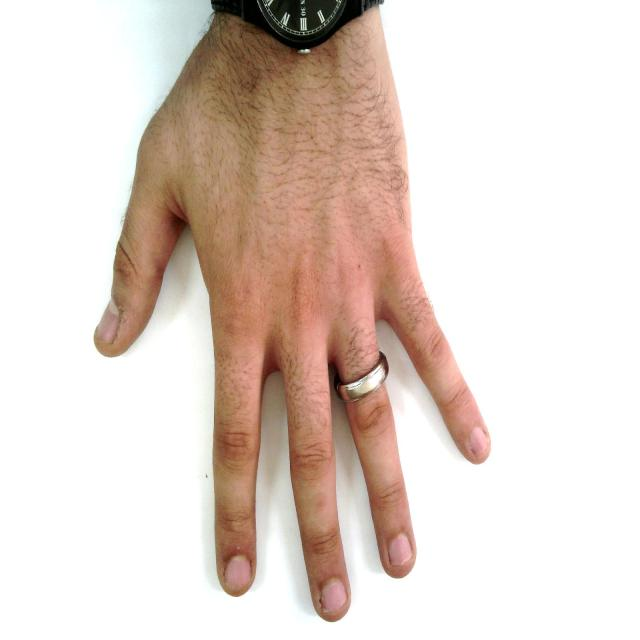Nail: (95, 297, 120, 343), (320, 580, 348, 613), (224, 556, 251, 590), (389, 534, 413, 566), (470, 427, 490, 456)
